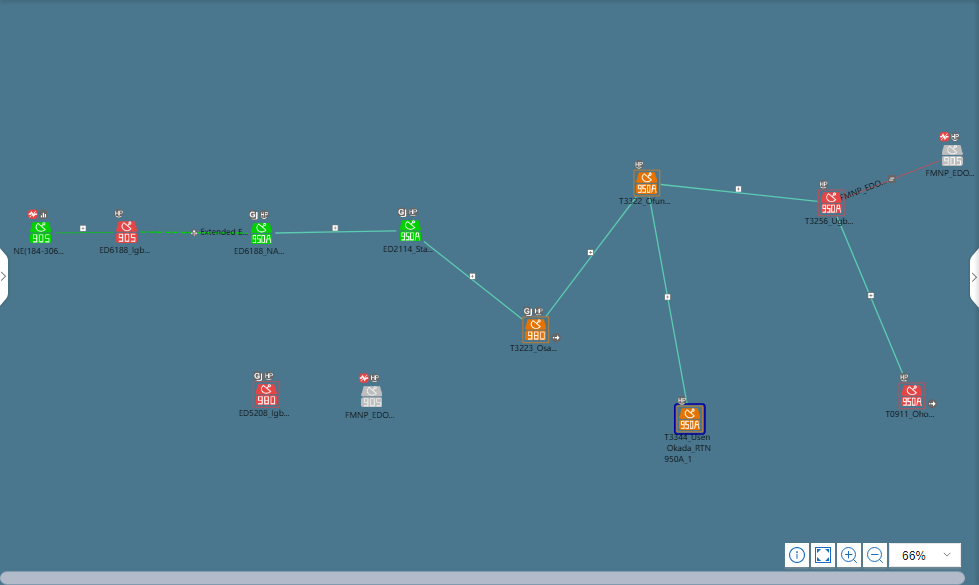Link_Blue: (835, 216, 907, 380), (646, 198, 693, 404), (548, 198, 633, 309), (425, 240, 519, 315), (701, 185, 806, 199), (272, 228, 346, 239)
Link_Green: (138, 228, 252, 239), (52, 228, 118, 239)
Link_Red: (847, 161, 929, 195)
RTN_Gray: (358, 387, 387, 410), (939, 143, 961, 172)
RTN_Green: (248, 222, 277, 244), (401, 222, 424, 245), (28, 222, 49, 245)
RTN_Orange: (676, 406, 705, 435), (523, 320, 552, 343), (633, 173, 662, 195)
RTN_Red: (896, 381, 925, 410), (254, 381, 283, 410), (113, 222, 142, 245), (817, 192, 846, 213)
